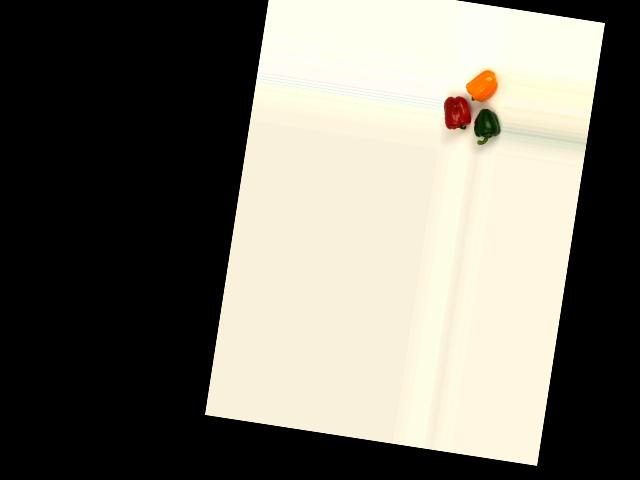bell_pepper: (469, 106, 503, 148)
